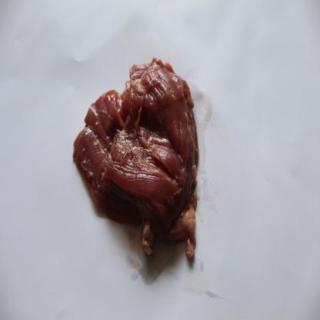Daging Sapi: (73, 61, 199, 272)
